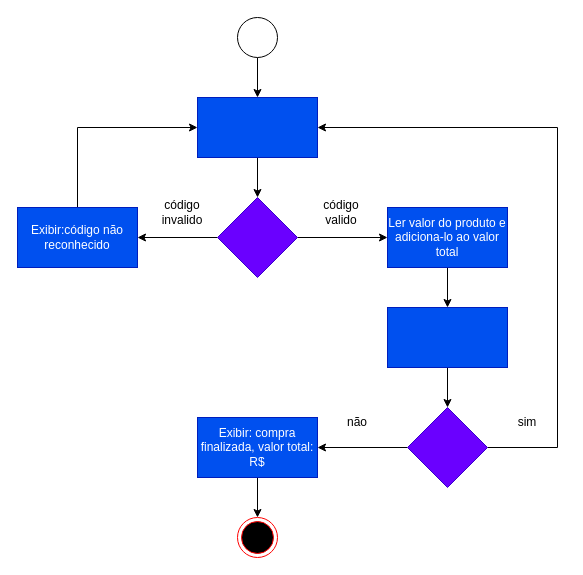
This 583x575 diagram has some shape labels left out. Here are the shapes that lost their labels. From the top down, the centre of each, then its label:
At (x=257, y=127): "Ler código".
At (x=447, y=337): "Exibir: Gostaria de finalizar a compra ou adicionar outro produto?".
